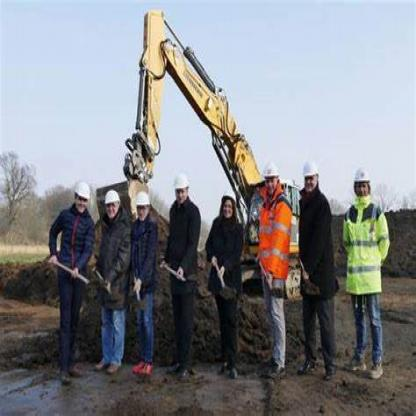person: (338, 159, 395, 383), (291, 153, 343, 378), (249, 143, 288, 382), (47, 172, 88, 386), (206, 172, 247, 378), (162, 168, 200, 382), (91, 178, 128, 375), (128, 178, 158, 383)
